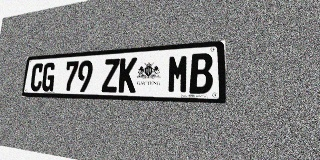7: (63, 61, 79, 92)
9: (76, 60, 93, 92)
B: (189, 53, 213, 94)
C: (29, 63, 44, 91)
G: (41, 62, 56, 91)
K: (118, 57, 137, 93)
M: (167, 54, 189, 93)
Z: (101, 58, 120, 92)
